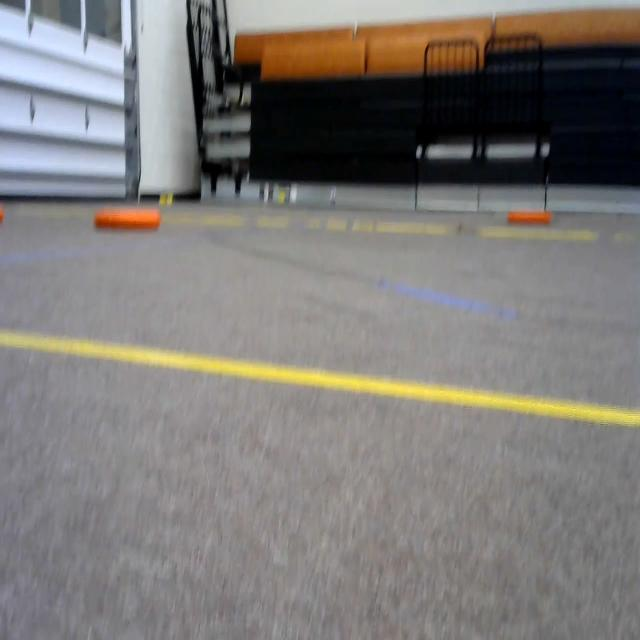note: (85, 198, 163, 243), (502, 209, 556, 229)
